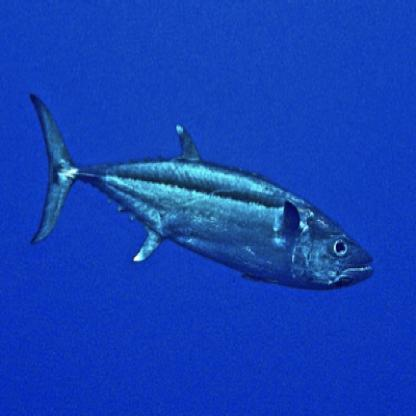Scombridae -Tunas-: (26, 87, 376, 293)
